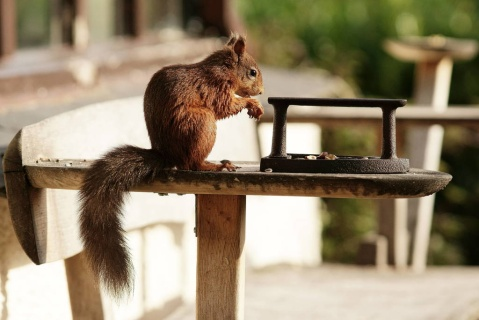Squirrel: (76, 29, 268, 309)
